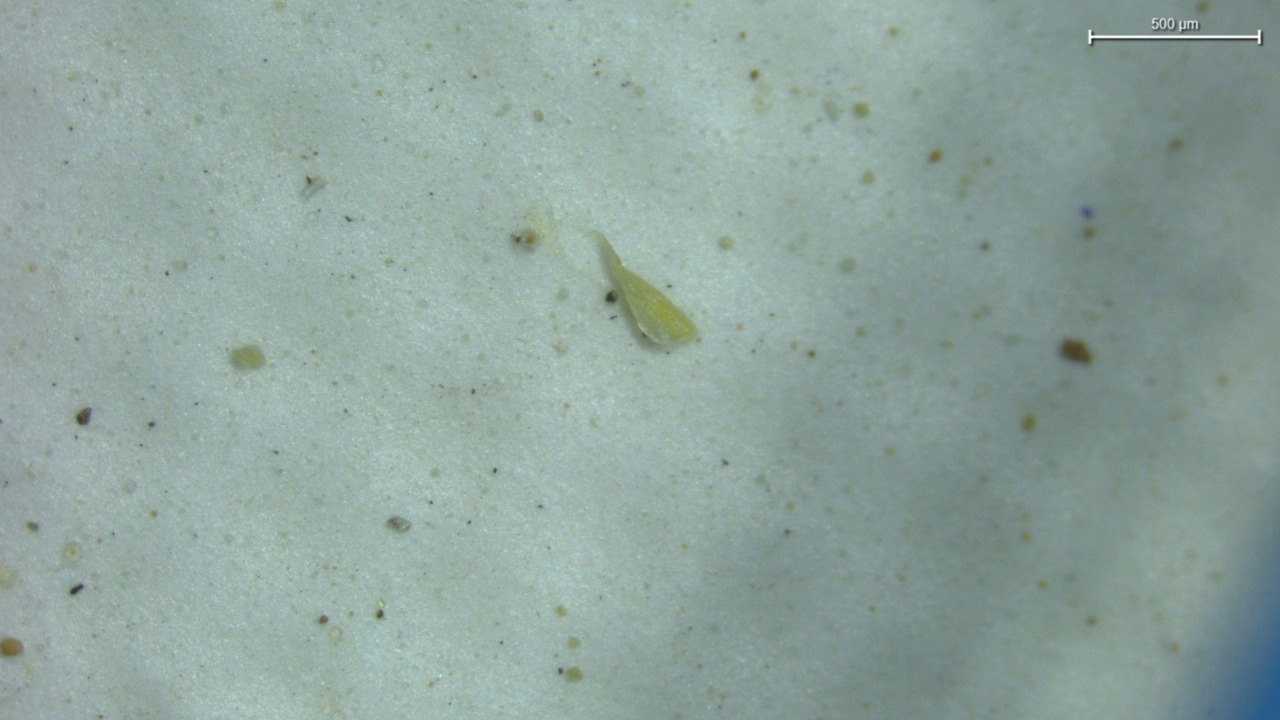microplastic_fragment: (592, 232, 696, 346)
